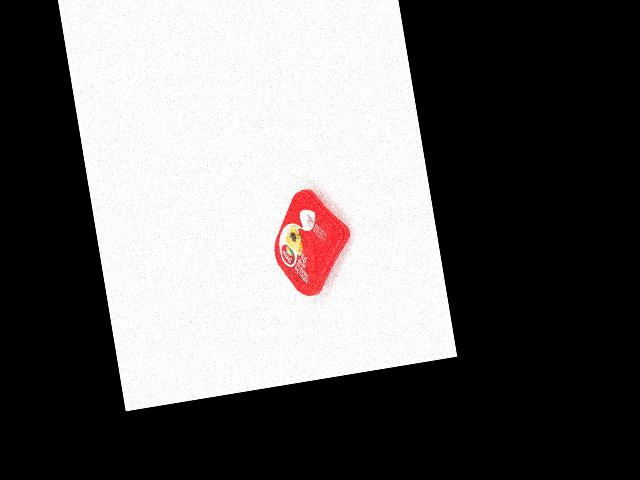cheese: (264, 182, 359, 300)
